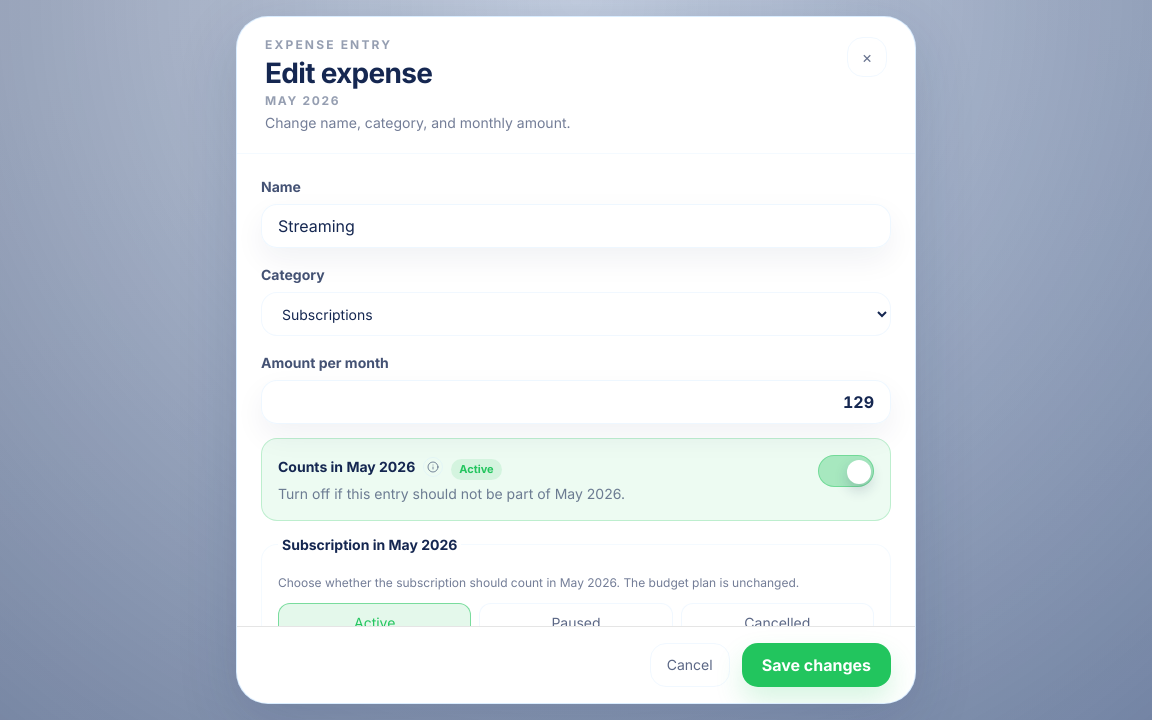
Test: ExpenseItemModal › plan-aware preview shows new amount on the editing column and source amount on the unchanged column
// Type a new amount, stay on the default scope (currentMonthOnly).
Replace the text in the field labelled "Amount per month" with "150": (576, 402) [261,380,891,424]
(page scrolled)
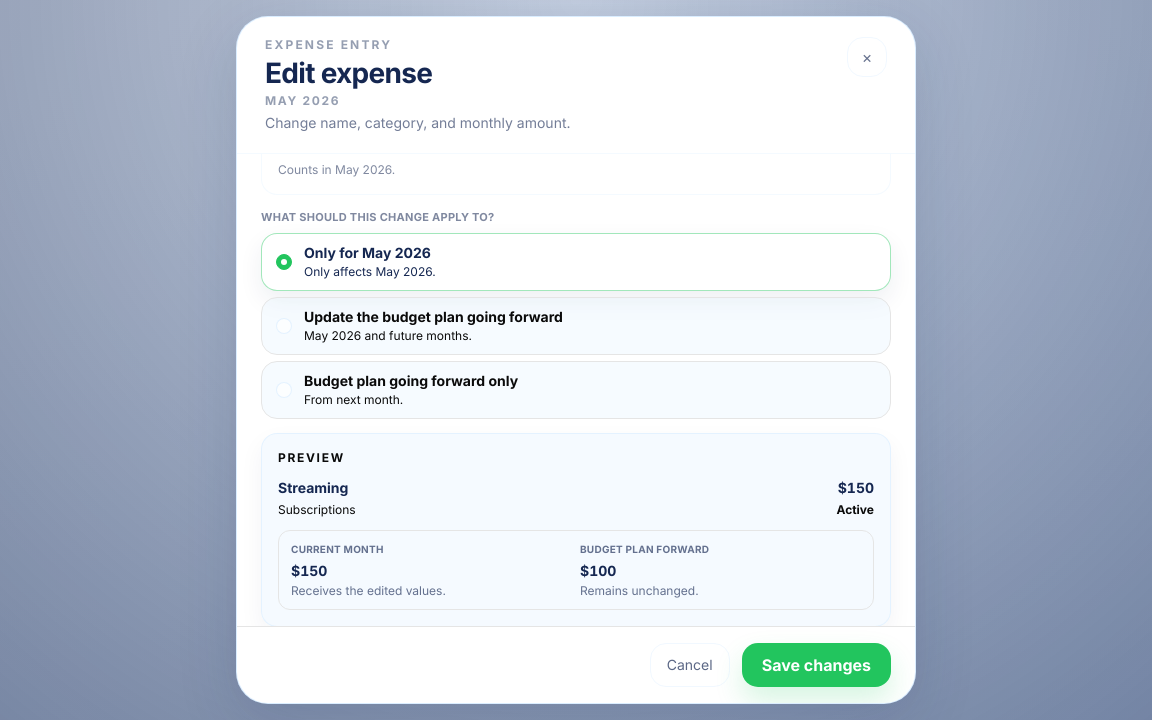
Result: the element with test id "expense-item-modal-plan-preview-current" shows "$150" at [291,562,327,579]
Result: the element with test id "expense-item-modal-plan-preview-current" shows "Receives the edited values" at [291,583,446,598]
Result: the element with test id "expense-item-modal-plan-preview-plan" shows "$100" at [580,562,616,579]
// Switching to plan-only flips which column is unchanged.
Click the radio button labelled "Budget plan going forward only From next month.": (411, 380) [261,361,891,419]
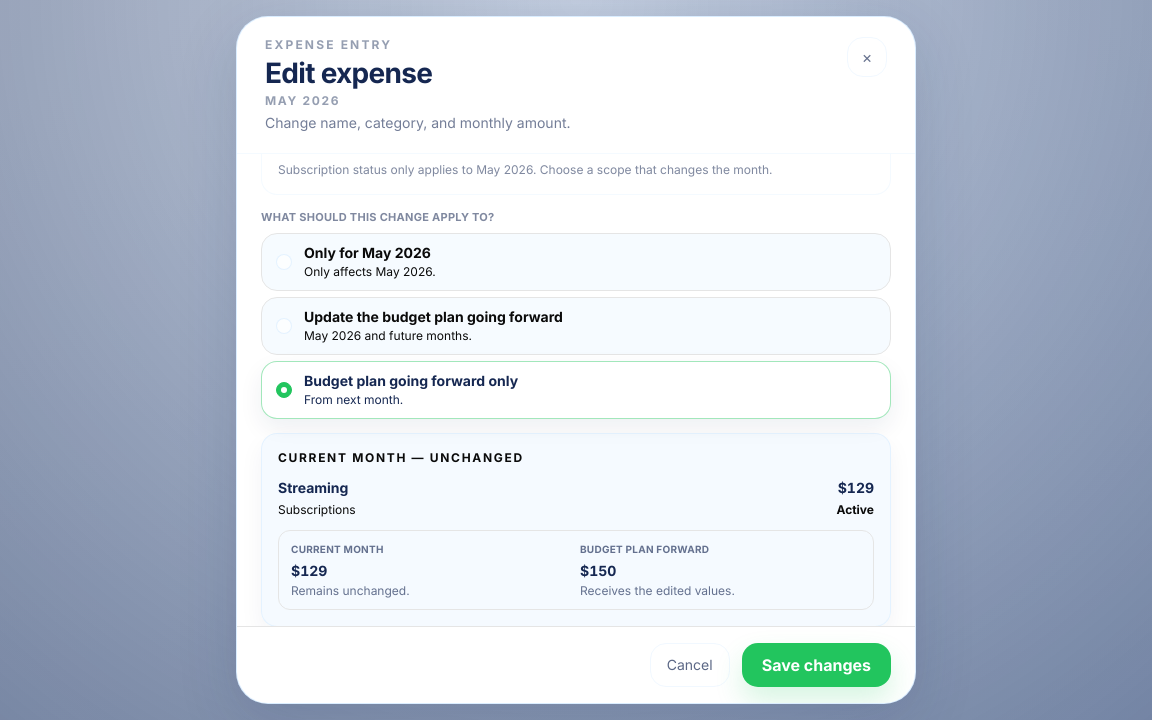
Result: the element with test id "expense-item-modal-plan-preview-current" shows "$129" at [291,562,327,579]
Result: the element with test id "expense-item-modal-plan-preview-current" shows "Remains unchanged" at [291,583,410,598]
Result: the element with test id "expense-item-modal-plan-preview-plan" shows "$150" at [580,562,616,579]
// currentMonthAndBudgetPlan writes both surfaces.
Click the radio button labelled "Update the budget plan going forward": (433, 316) [261,297,891,355]
(page scrolled)
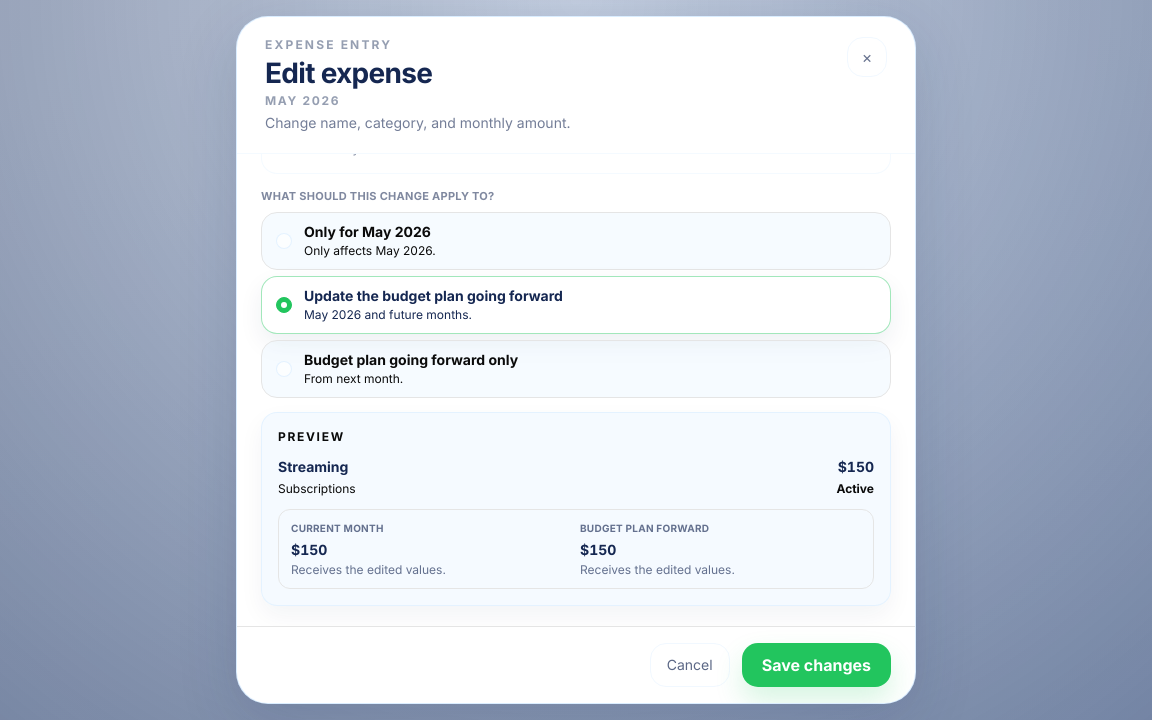
Result: the element with test id "expense-item-modal-plan-preview-plan" shows "$150" at [580,541,616,558]
Result: the element with test id "expense-item-modal-plan-preview-current" shows "$150" at [291,541,327,558]
Result: the element with test id "expense-item-modal-plan-preview-current" shows "Receives the edited values" at [291,562,446,577]
